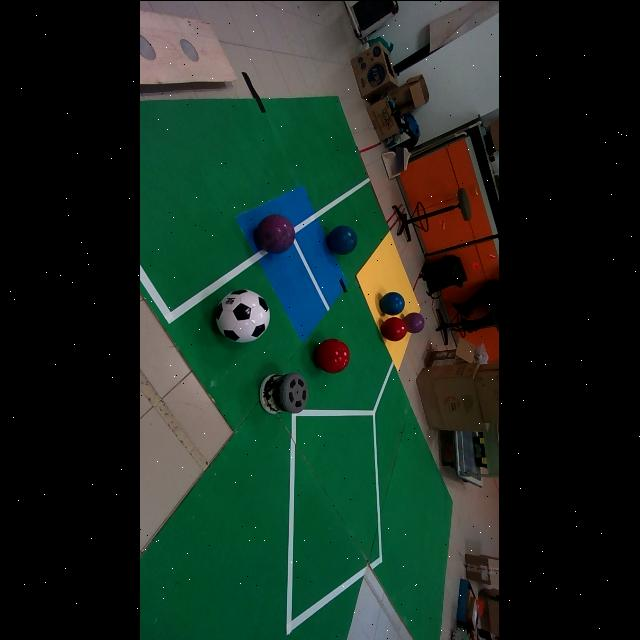B: (328, 224, 359, 253), (381, 292, 405, 314)
P: (255, 213, 296, 253), (404, 312, 425, 333)
R: (315, 338, 351, 373), (382, 317, 408, 341)
